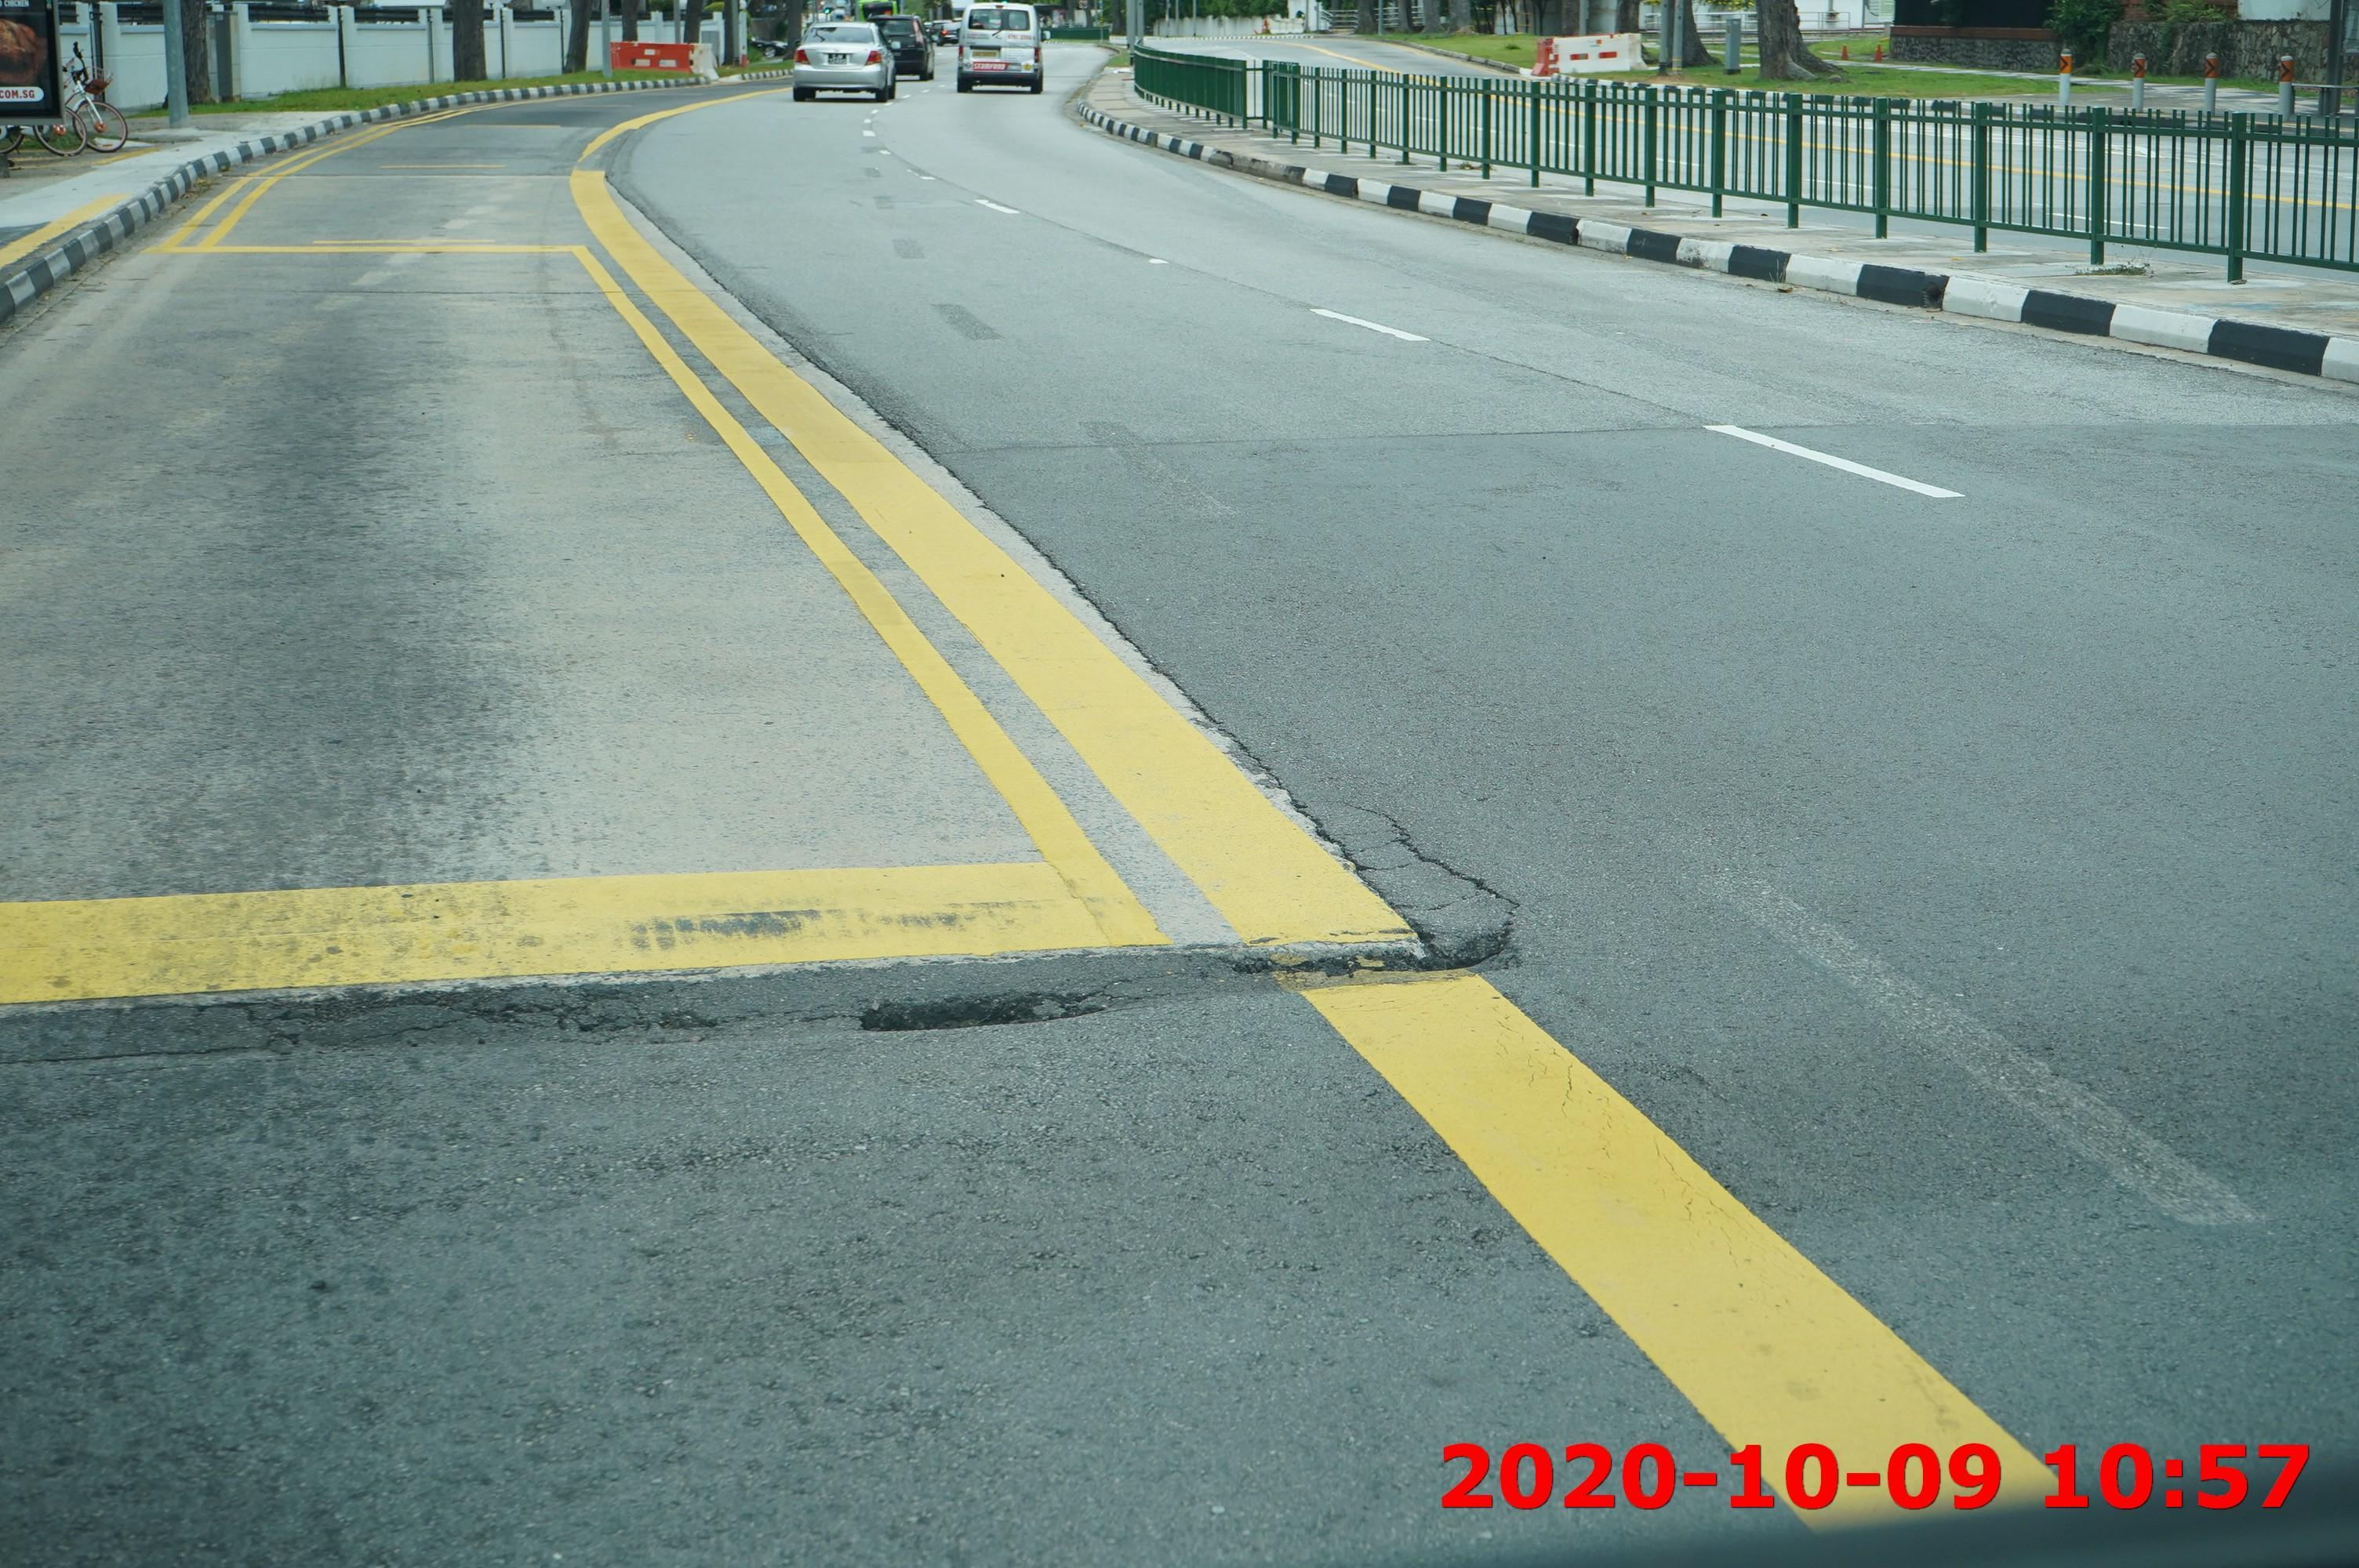transverse crack: (0, 909, 1561, 1087)
